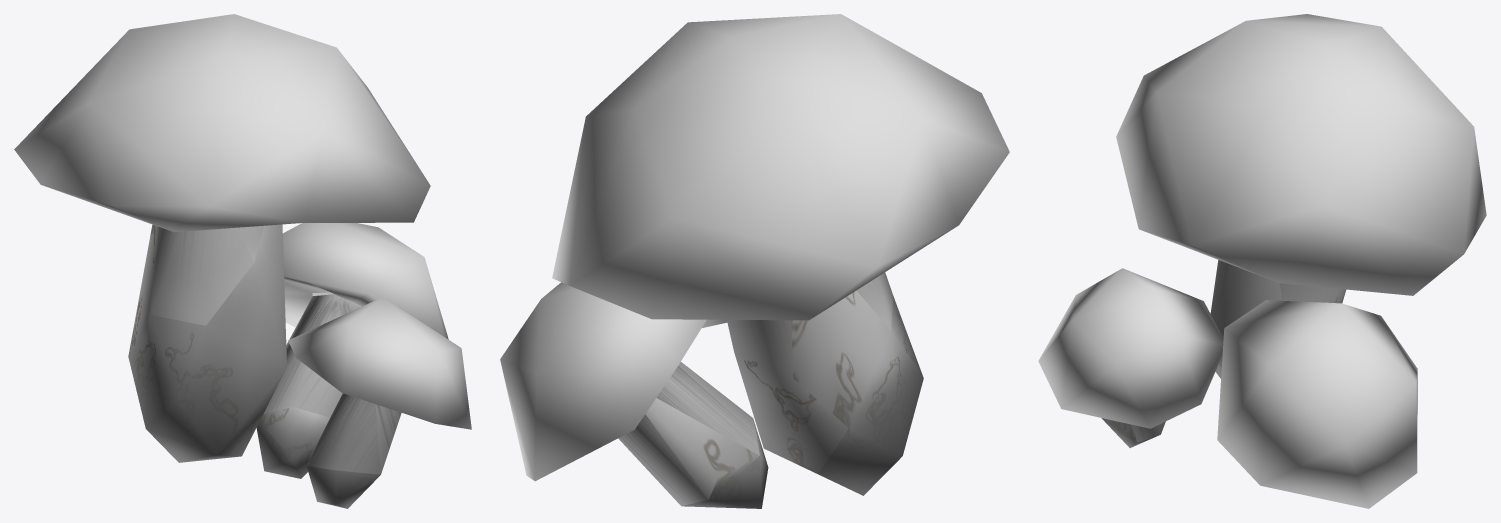
File: muuuu UP.fbx
3 renders of one model, left to right at view 1: azimuth 30°, elevation 25°; view 2: azimuth 150°, elevation 25°; view 3: azimuth 270°, elevation 25°, orthographic. The views are drawn at different scales.
Visible parts, largest first — view 1: Mushrooms; view 2: Mushrooms; view 3: Mushrooms.
Part boxes in pixels (box(x1,y1,x2,y2)): Mushrooms: box(14, 14, 471, 508); Mushrooms: box(500, 14, 1009, 508); Mushrooms: box(1038, 14, 1486, 508).
Bounding box in the file's own units: 267 × 278 × 289.
